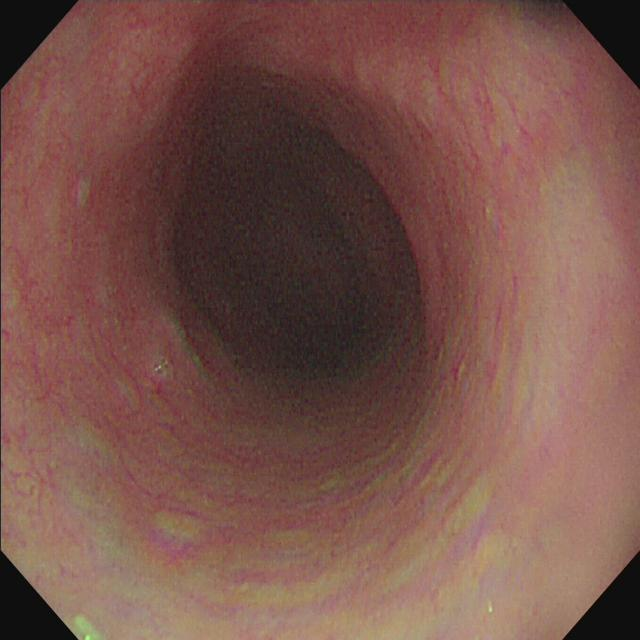E: (175, 119, 428, 380)
